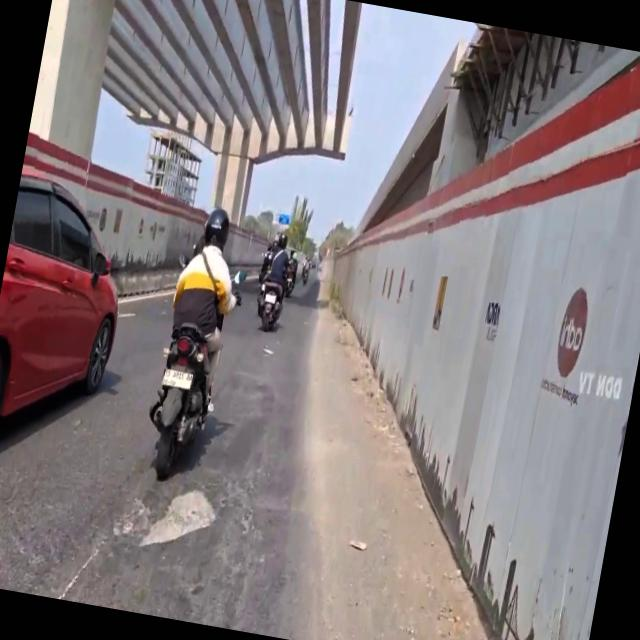WithHelmet: (154, 203, 253, 417), (255, 231, 295, 320), (282, 250, 301, 293), (259, 238, 276, 279)
